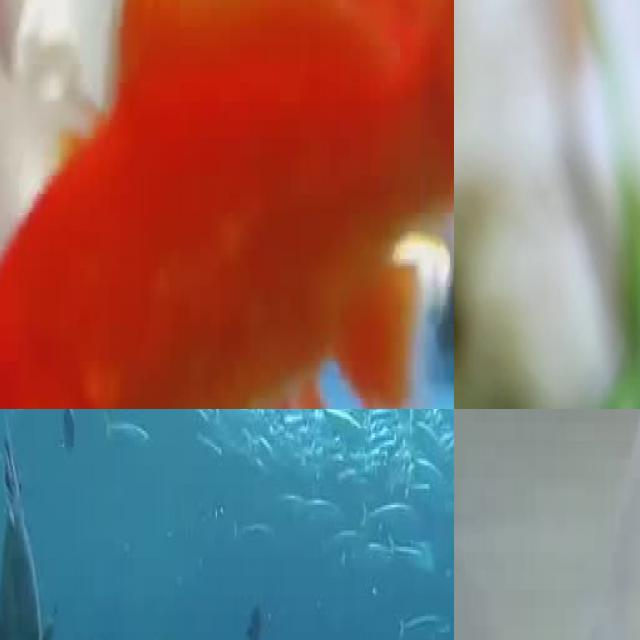fish: (0, 0, 454, 409)
